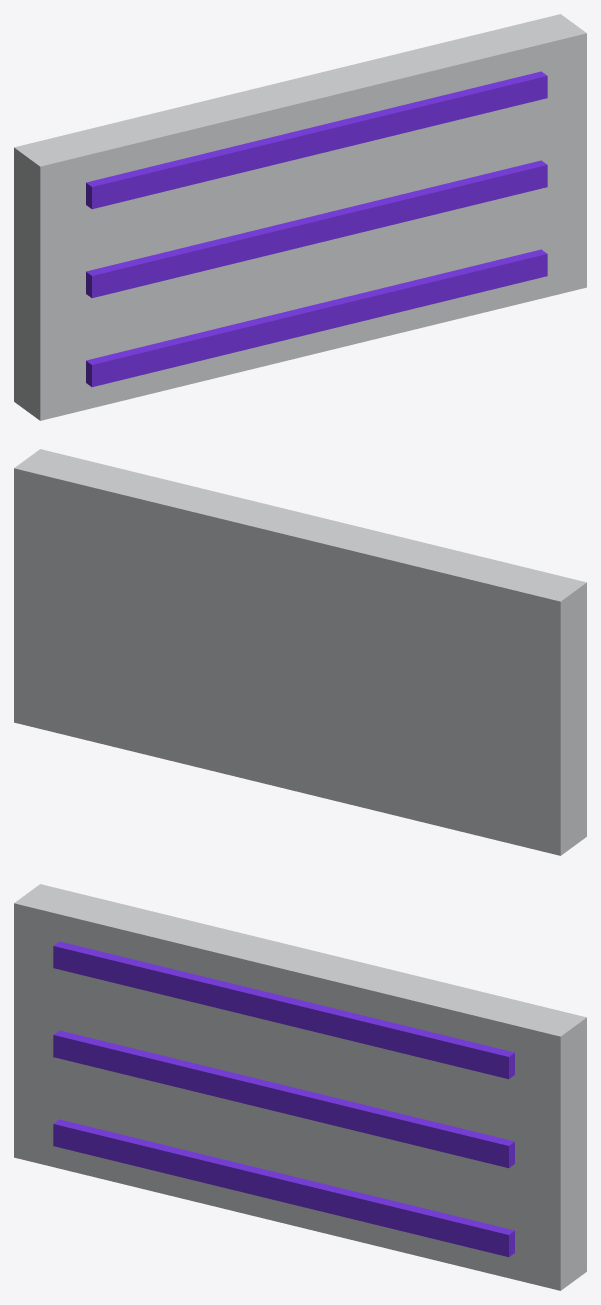
Rendered from term-transfer-grille.glb.
3 views of the same model, one above another, from view 1: azimuth 30°, elevation 25°; view 2: azimuth 150°, elevation 25°; view 3: azimuth 330°, elevation 25° (orthographic).
Visible parts, largest first — view 1: hvac-terminal-transfer-grille; view 2: hvac-terminal-transfer-grille; view 3: hvac-terminal-transfer-grille.
Boxes of the visible parts, box(x1,y1,x2,y2) form: hvac-terminal-transfer-grille: box(14, 14, 586, 420); hvac-terminal-transfer-grille: box(14, 449, 586, 855); hvac-terminal-transfer-grille: box(14, 884, 586, 1290).
Size of the model in its own units: 0.36 by 0.16 by 0.037.
